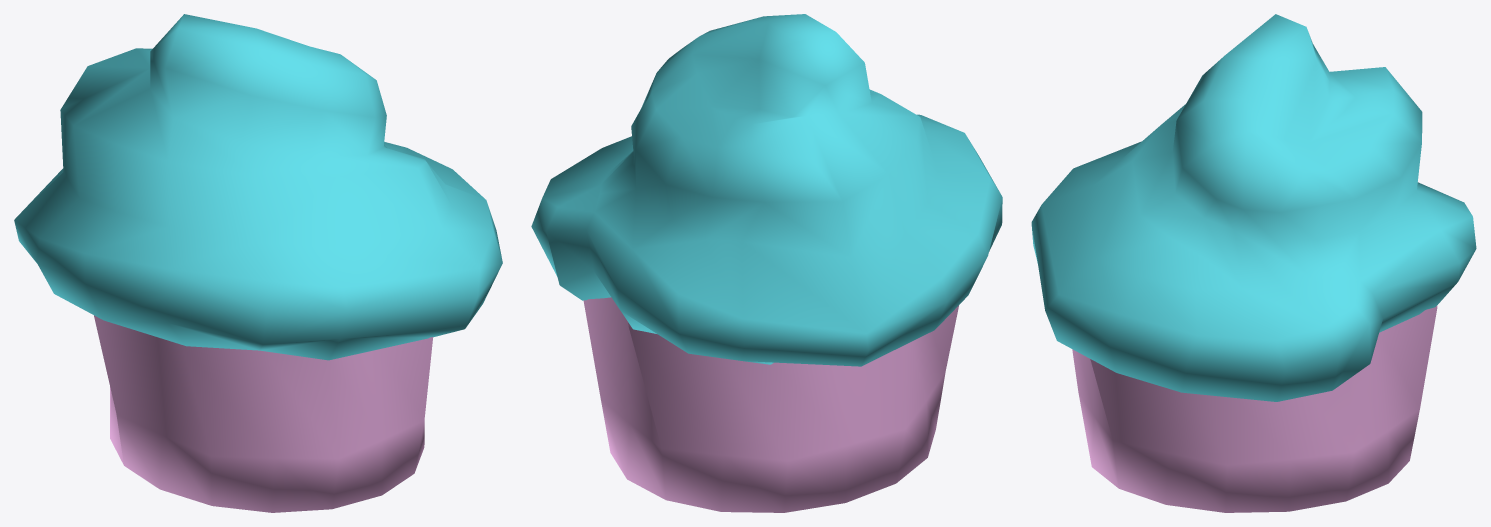
Rendered from cupcake.glb.
The picture shows the model from 3 angles, left to right: view 1: azimuth 30°, elevation 25°; view 2: azimuth 150°, elevation 25°; view 3: azimuth 270°, elevation 25°; orthographic projection. The views are drawn at different scales.
Visible parts, largest first — view 1: FROSTING; view 2: FROSTING; view 3: FROSTING.
Part boxes in pixels (left/top/right/bottom): FROSTING: left=14, top=14, right=502, bottom=512; FROSTING: left=531, top=14, right=1002, bottom=512; FROSTING: left=1031, top=14, right=1476, bottom=512.
Bounding box in the file's own units: 0.1203 × 0.1203 × 0.1203.
